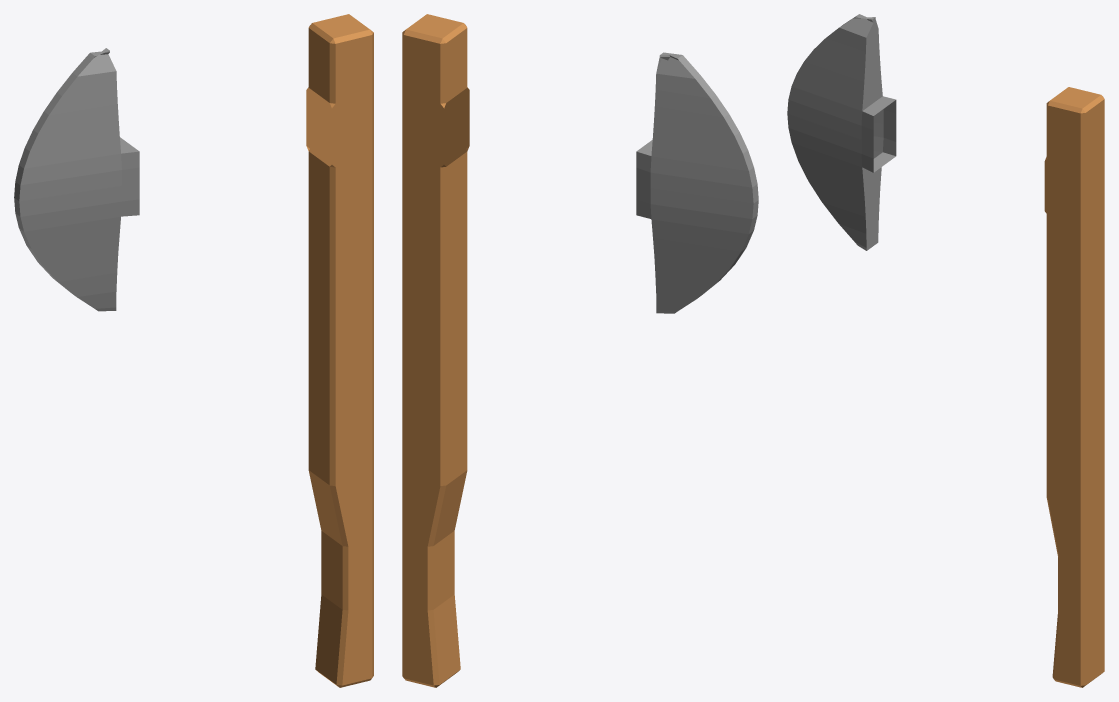
Rendered from Axe.fbx.
3 views of the same model, side by side, from view 1: azimuth 30°, elevation 25°; view 2: azimuth 150°, elevation 25°; view 3: azimuth 330°, elevation 25° (orthographic). The views are drawn at different scales.
Visible parts, largest first — view 1: Axe.003, Axe.002; view 2: Axe.003, Axe.002; view 3: Axe.003, Axe.002.
Boxes of the visible parts, left/top/right/bottom form: Axe.003: left=306, top=14, right=373, bottom=687; Axe.002: left=14, top=48, right=139, bottom=311; Axe.003: left=402, top=14, right=469, bottom=687; Axe.002: left=636, top=52, right=758, bottom=313; Axe.003: left=1044, top=87, right=1104, bottom=687; Axe.002: left=787, top=14, right=896, bottom=250.
Bounding box in the file's own units: 88.26 × 167 × 11.92.
